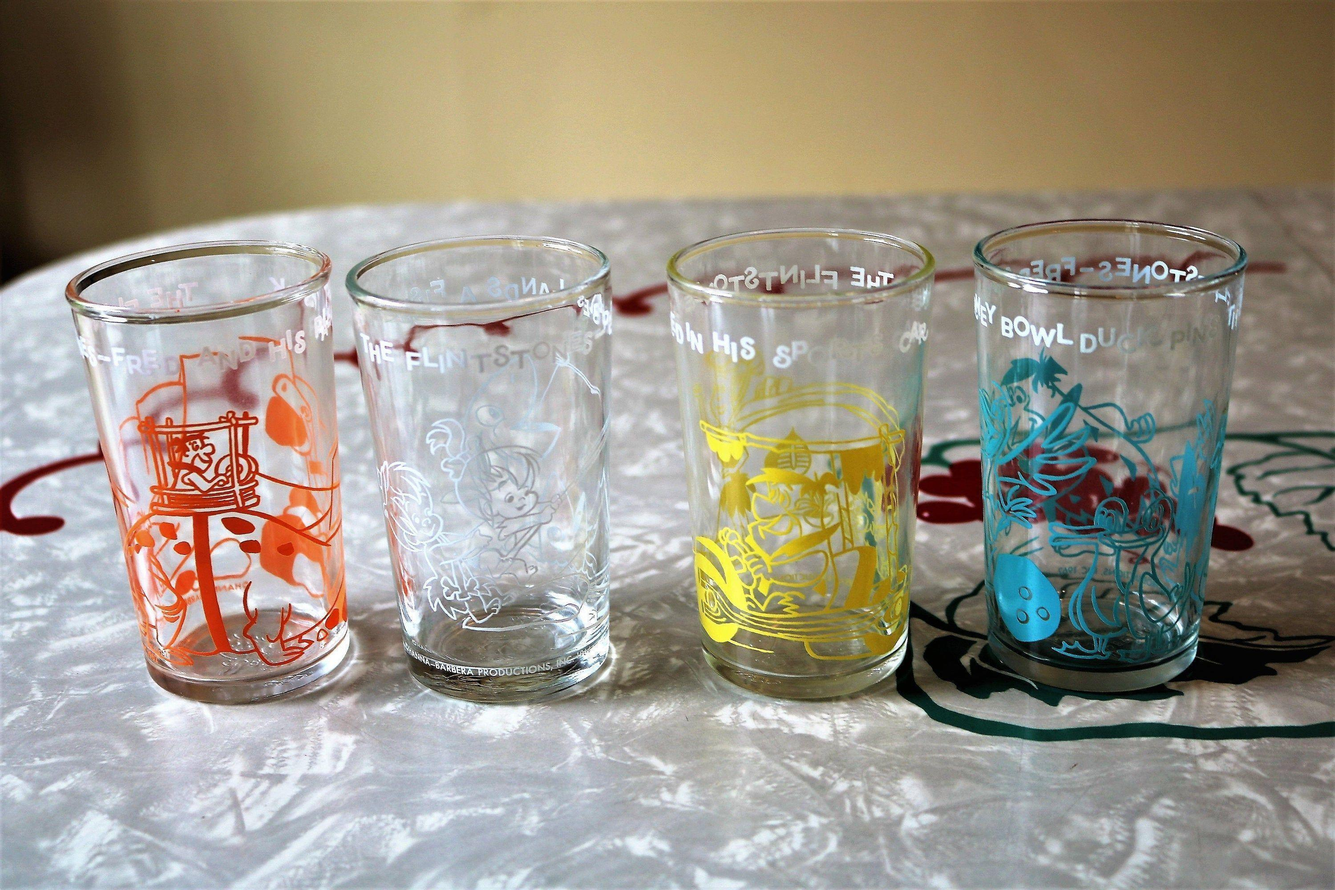glass-normal: (65, 238, 355, 704), (970, 216, 1249, 689), (663, 223, 938, 700), (344, 232, 619, 704)
